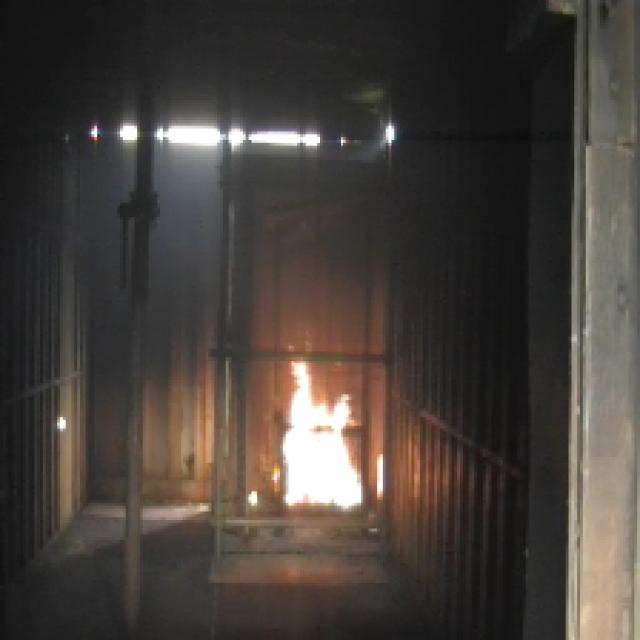fire: (276, 352, 363, 509)
